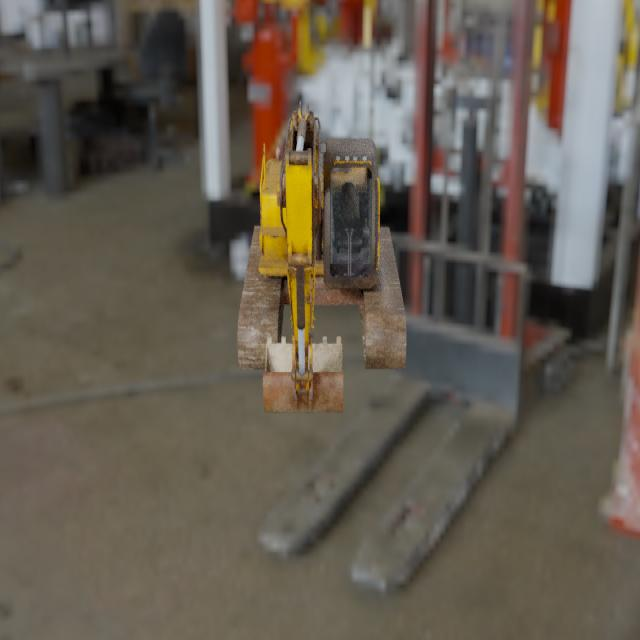excavator: (236, 100, 406, 413)
